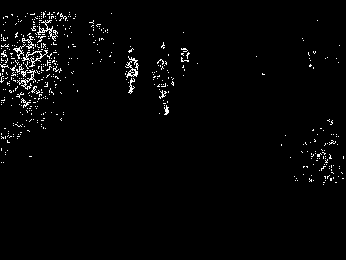person: (152, 59, 174, 115), (125, 48, 137, 94), (179, 46, 191, 79)
